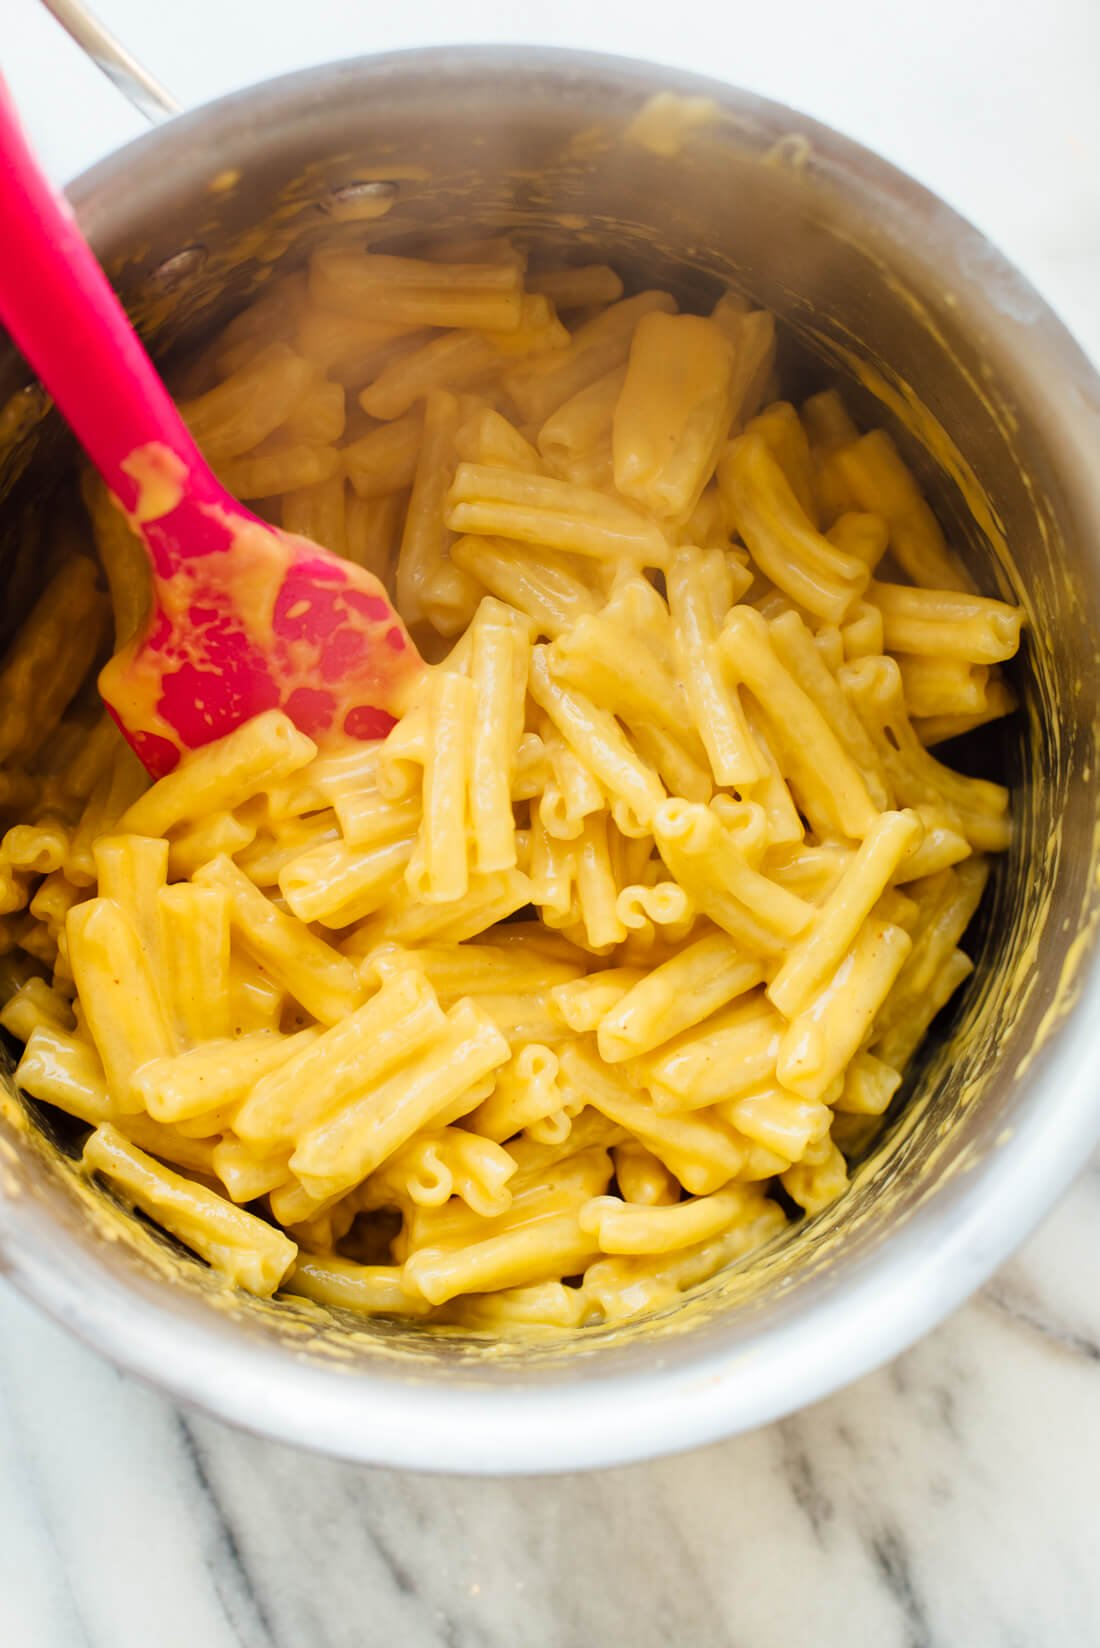cheese: (464, 526, 771, 907), (199, 817, 539, 1104), (660, 852, 864, 1179)
